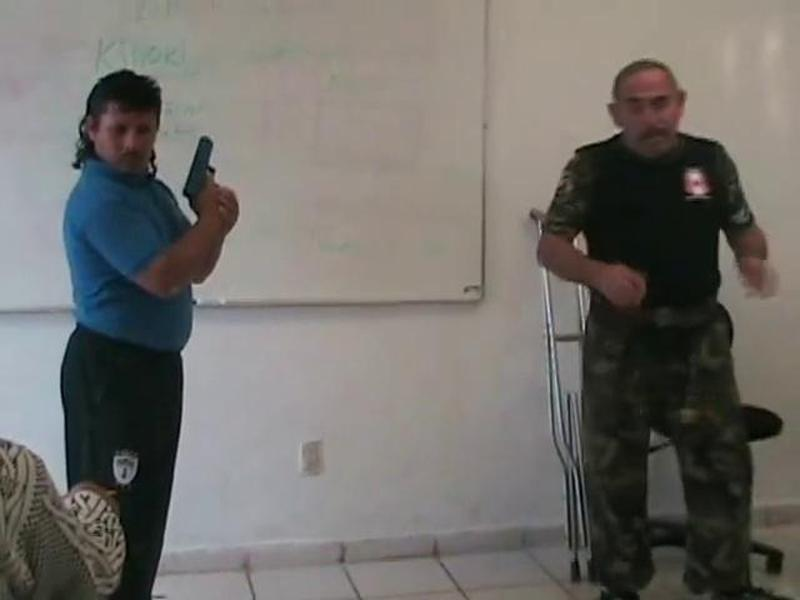Pistola: (163, 134, 225, 230)
